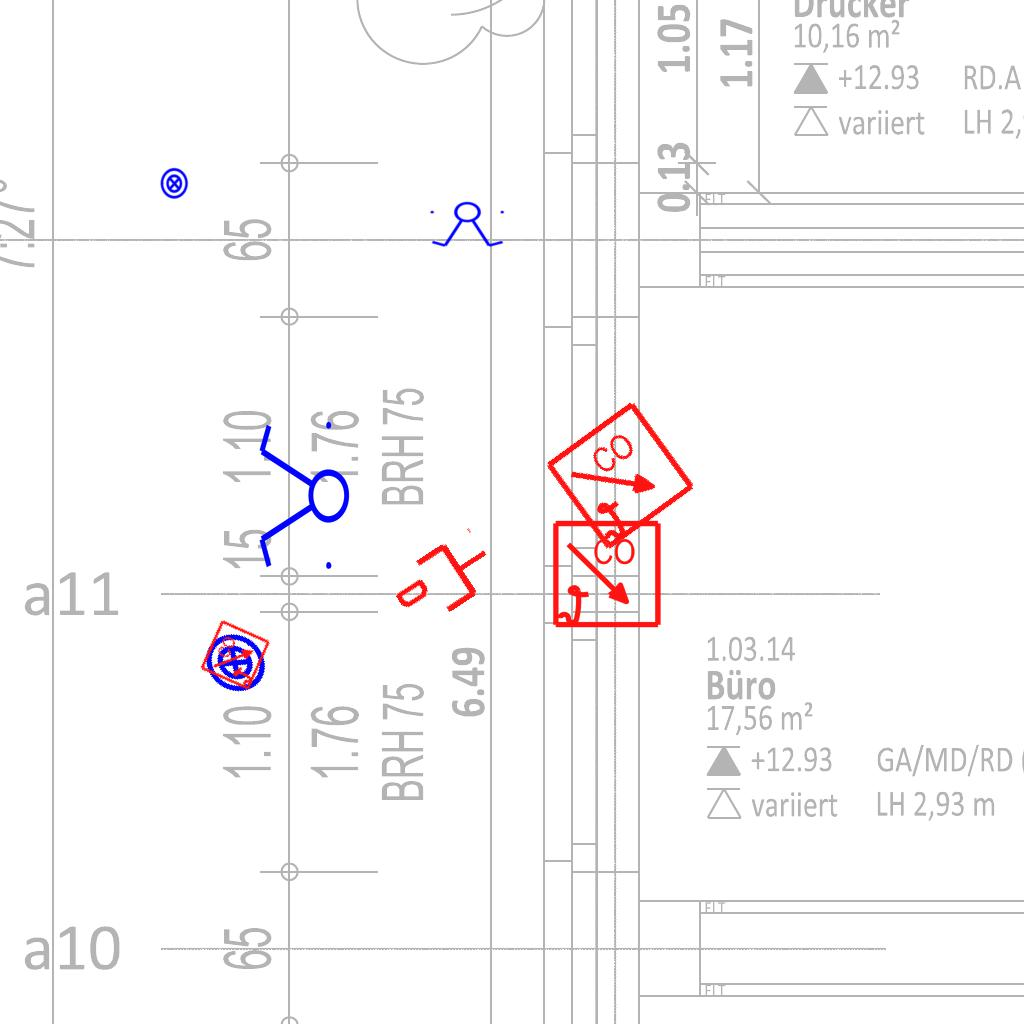Datenanschluss_einfach: (383, 522, 506, 636)
ROA_Rauchmelder_optisch_mit_Signalgeber_(Sockelsirene): (542, 397, 701, 556), (551, 519, 664, 632), (199, 618, 273, 692)
Serienschalter: (255, 413, 351, 581), (426, 201, 510, 249)
Taster_beleuchtet: (188, 616, 282, 710), (158, 167, 191, 200)
